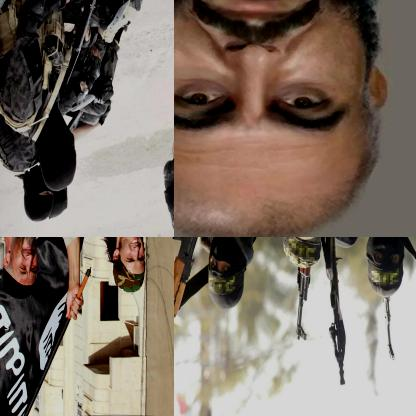rifle: (313, 237, 352, 387), (174, 237, 211, 383), (68, 0, 122, 58), (377, 293, 402, 362), (292, 260, 312, 343)
